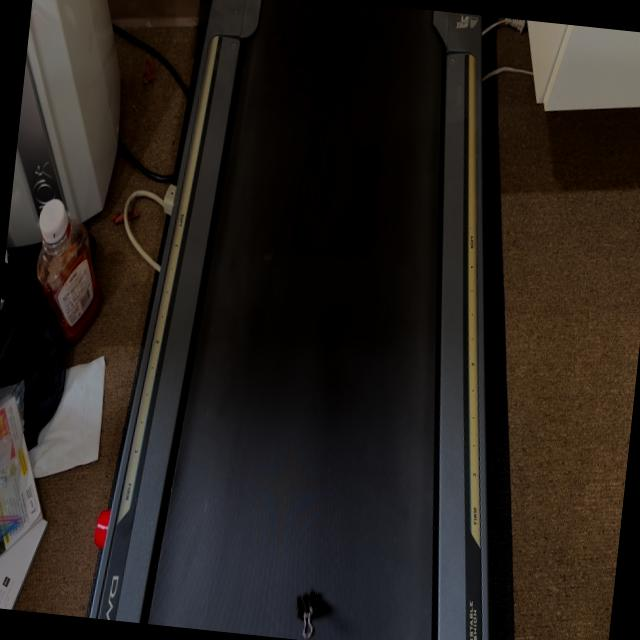Trash: (281, 578, 335, 640)
